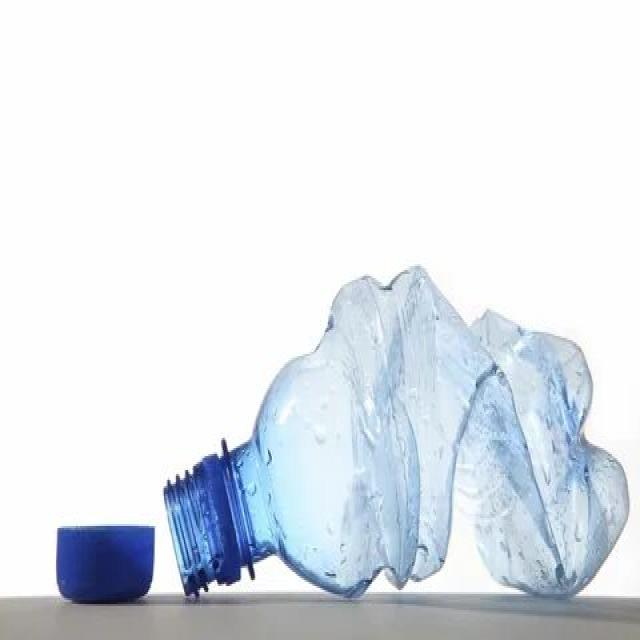blue: (161, 262, 631, 600)
